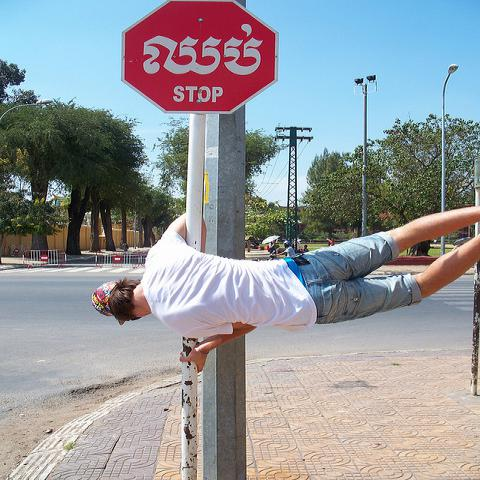motorcycle: (265, 251, 302, 261)
